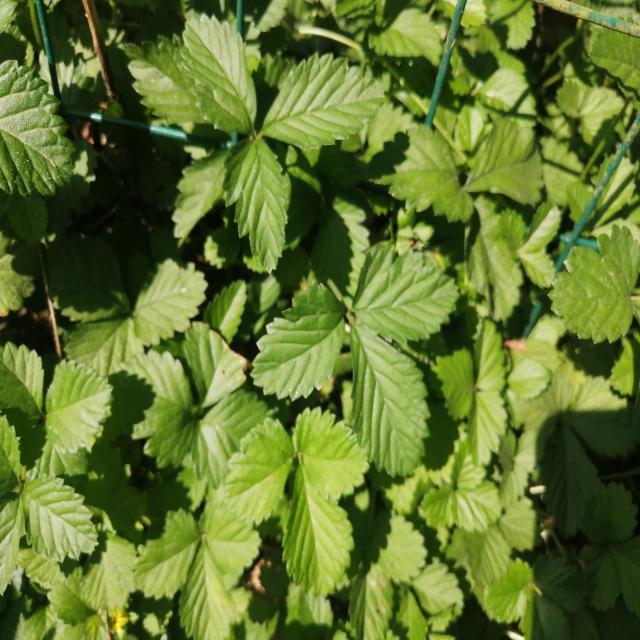Mock_strawberry: (128, 26, 352, 230), (273, 255, 447, 460)
